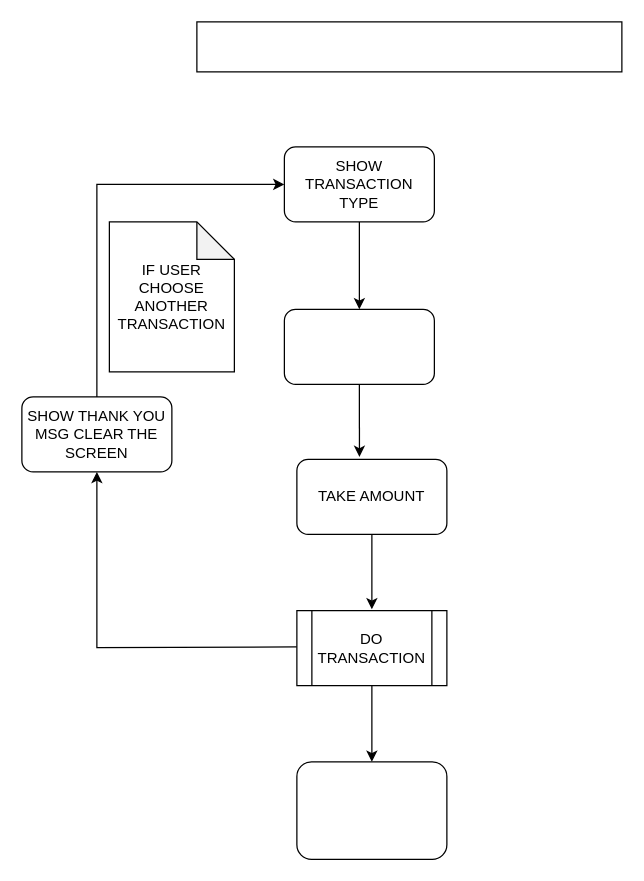
This 644x881 diagram has some shape labels left out. Here are the shapes that lost their labels. From the top down, the centre of each, then its label:
At point (409, 46): "BANK ATM TRANSACTION PROCESS".
At point (358, 346): "SHOW ACCOUNT TYPE".
At point (371, 810): "SHOW THANK YOU MSG END TRANSACTION".
